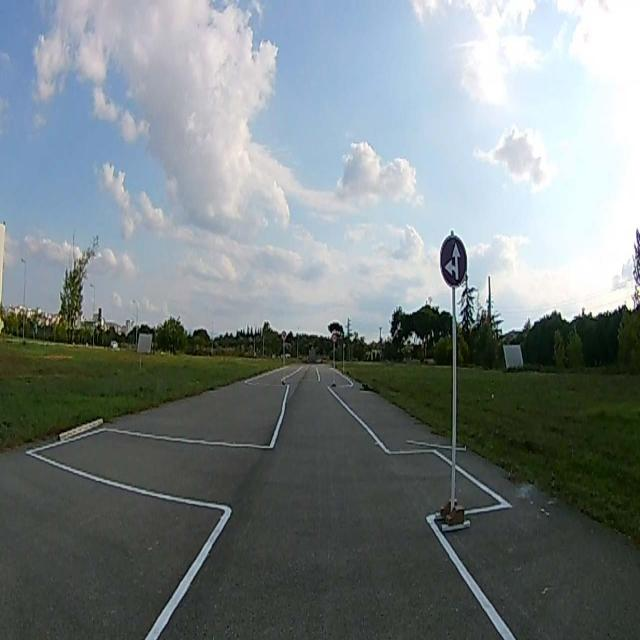ilerisol: (441, 237, 467, 284)
